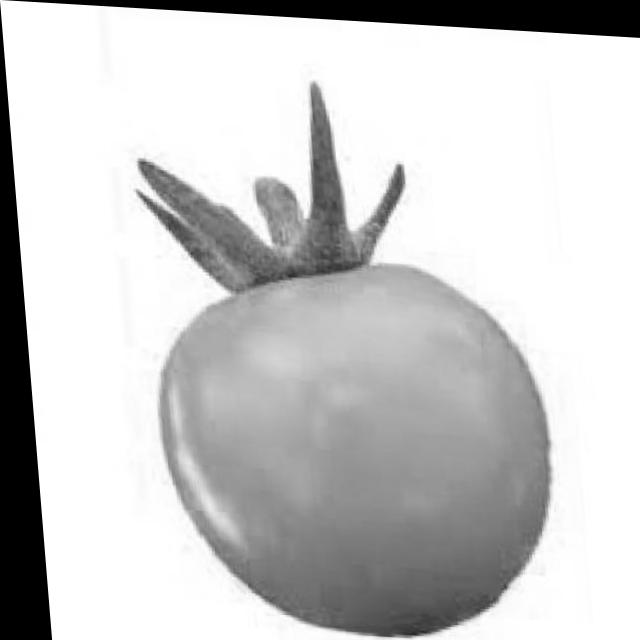sari: (131, 240, 562, 640)
